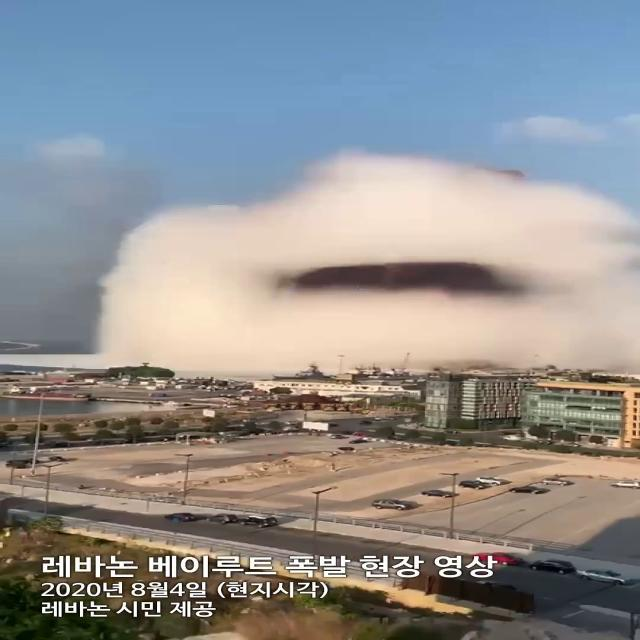explosion: (80, 139, 640, 380)
